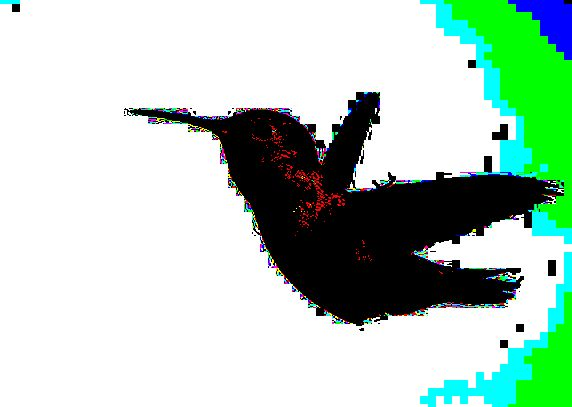Bird: (123, 85, 565, 324)
